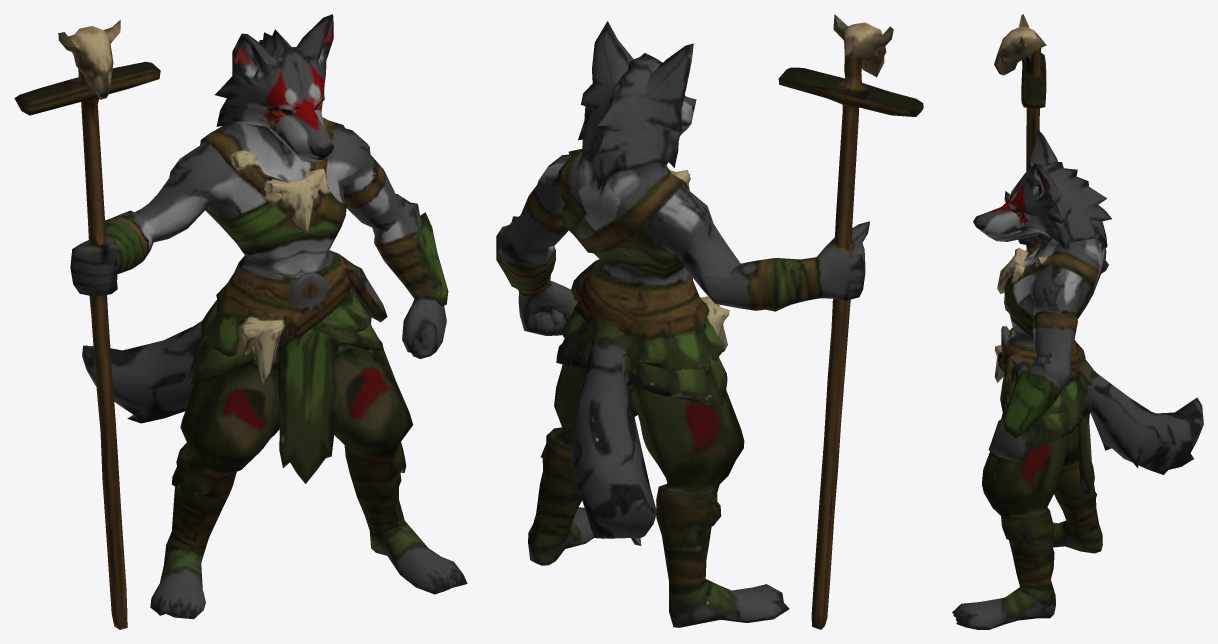
File: standard_bearer.glb
3 views of the same model, side by side, from view 1: azimuth 30°, elevation 25°; view 2: azimuth 150°, elevation 25°; view 3: azimuth 270°, elevation 25° (orthographic). The views are drawn at different scales.
Visible parts, largest first — view 1: world; view 2: world; view 3: world.
Part boxes in pixels (x1=…): world: x1=14, y1=14, x2=467, y2=629; world: x1=496, y1=14, x2=923, y2=629; world: x1=952, y1=14, x2=1203, y2=629.
Size of the model in its own units: 0.6989 by 0.9823 by 0.4685.
1 material, 1 textured.
